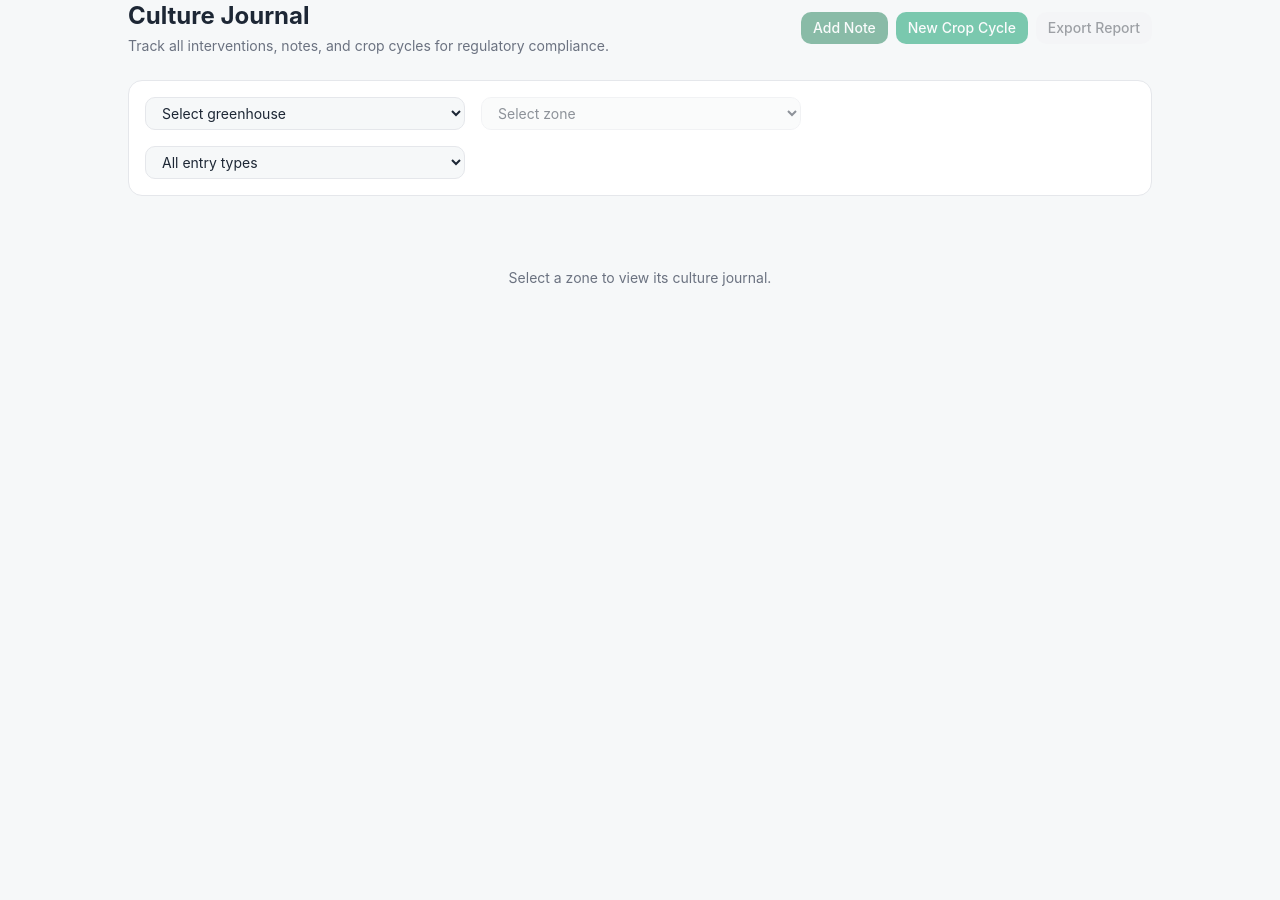
Test case: CultureJournal page › opens the Export Report modal when button is clicked
The width and height of the screenshot is (1280, 900).
Select "Greenhouse Alpha" in the 1st dropdown. click: (305,114)
box: [145,97,465,130]
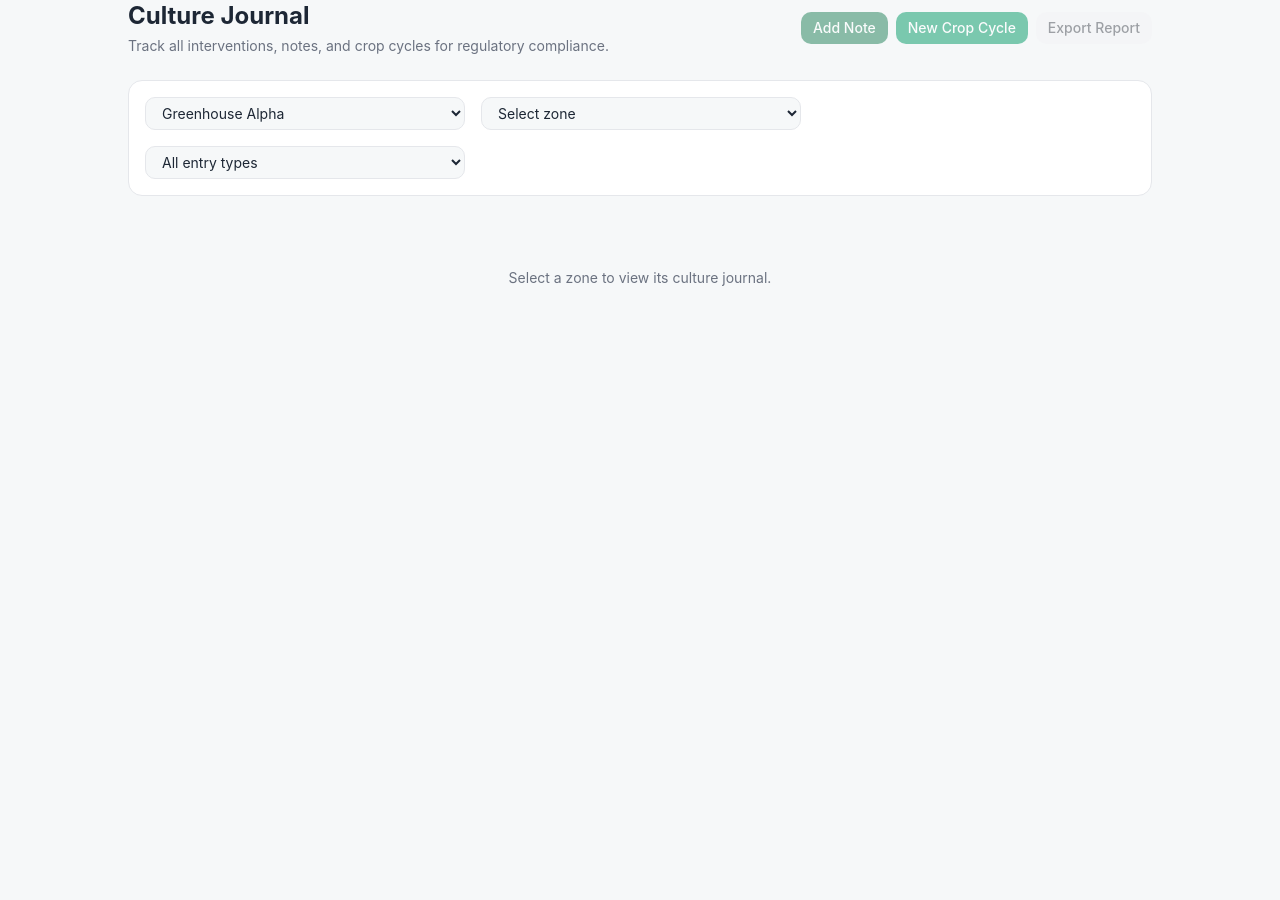
Select "Zone Tomato" in the 2nd dropdown. click: (641,114)
box: [481,97,801,130]
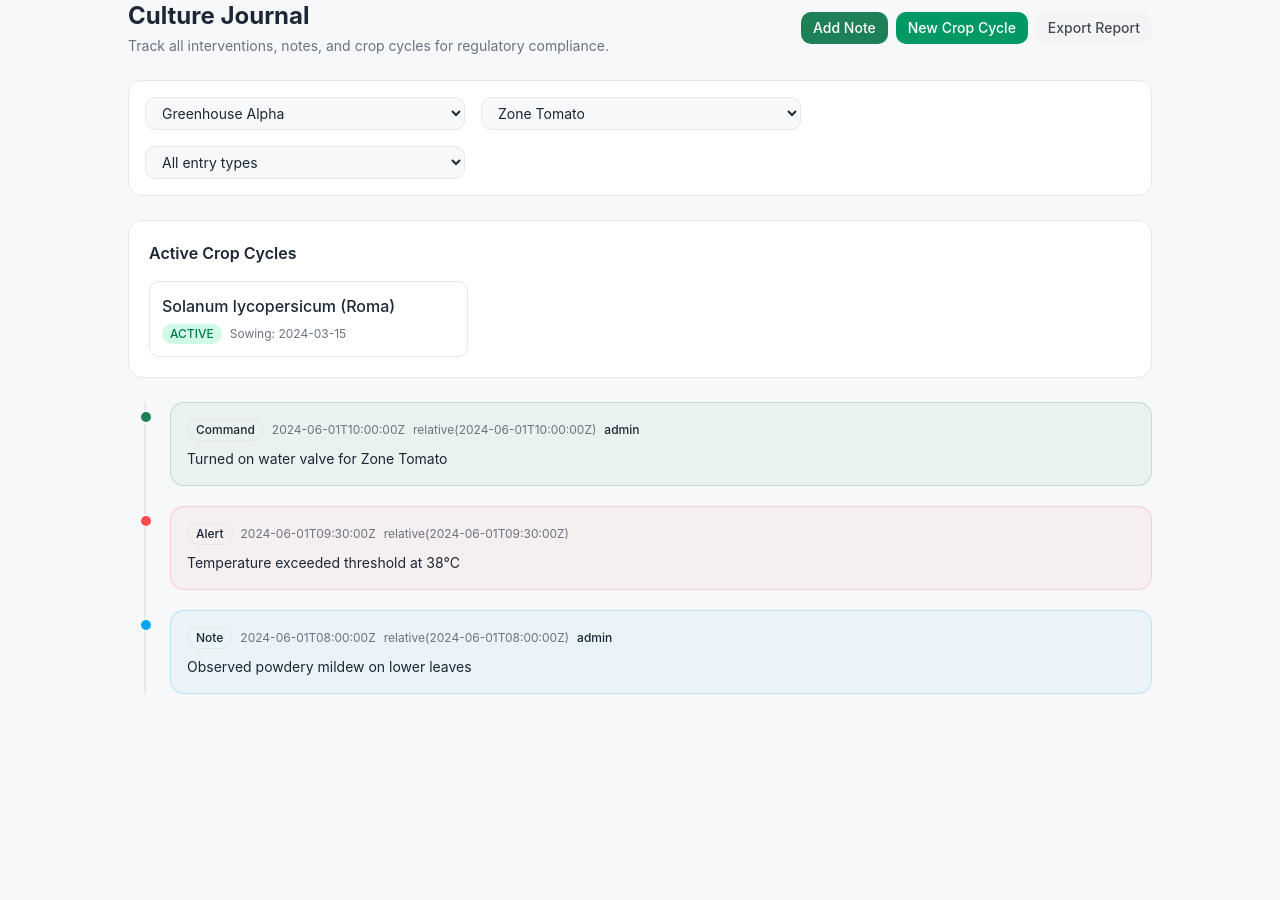
Check: the text "Turned on water valve for Zone Tomato" is shown, box [187,450,448,467]
Note: Click Export Report button
Click the button "Export Report". click: (1094,28)
box: [1036,12,1152,44]
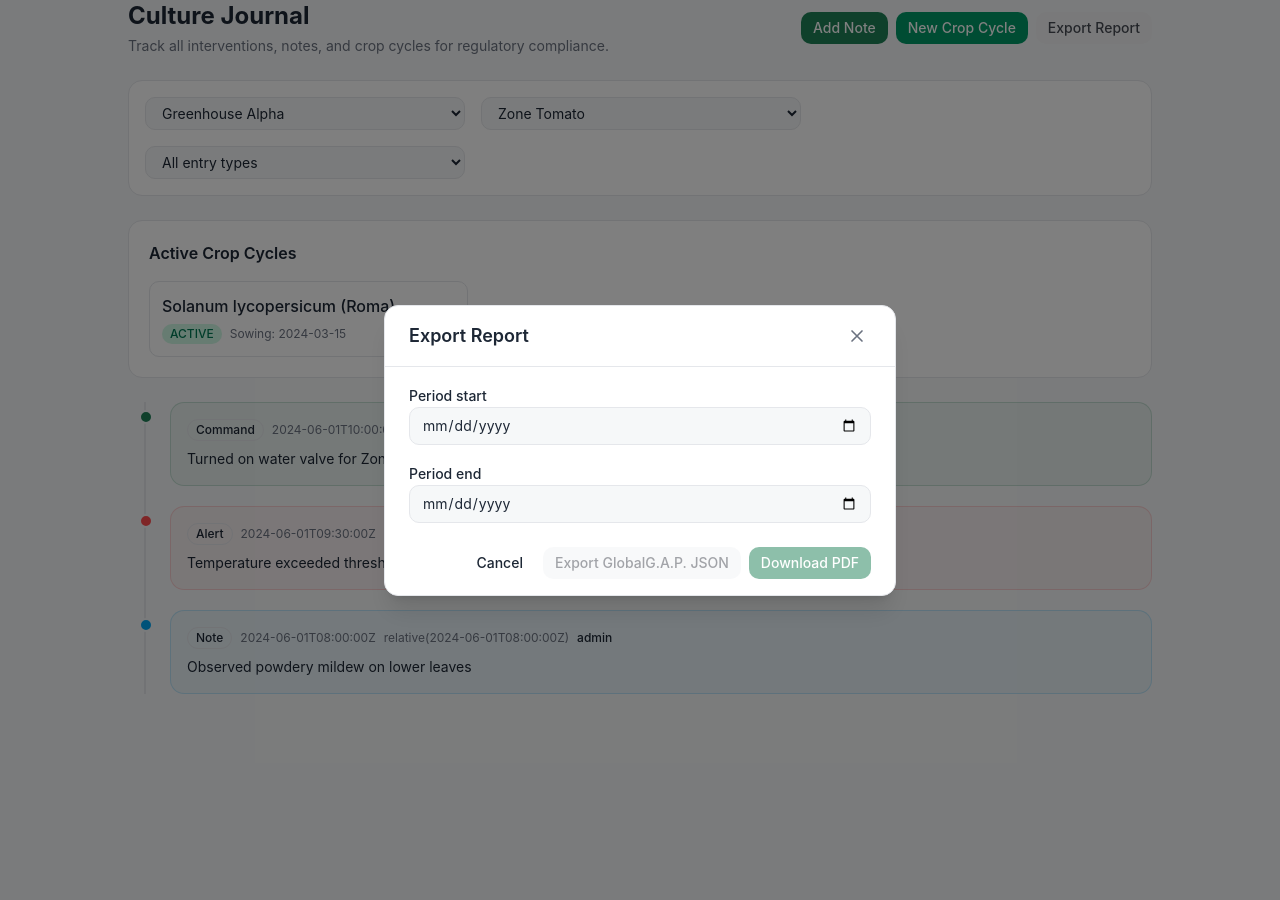
Check: the text "Period start" is shown, box [409,386,487,404]
Check: the text "Period end" is shown, box [409,464,481,482]
Check: the button "Export GlobalG.A.P. JSON" is shown, box [543,546,741,578]
